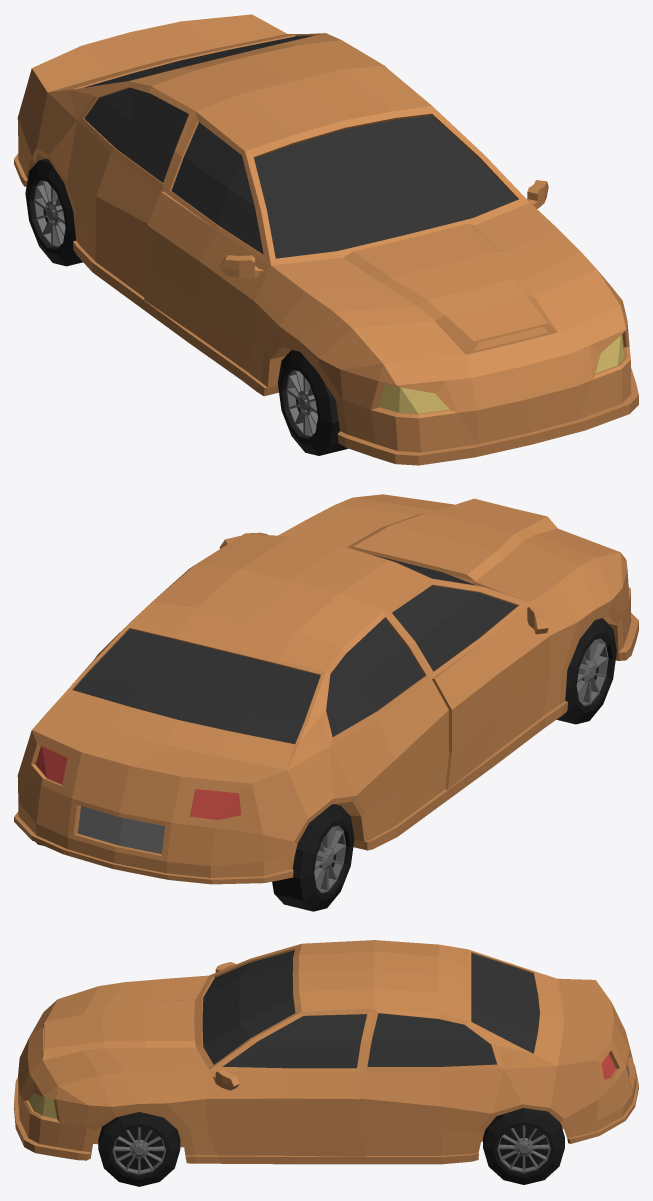
The model's file is SportsCar.glb.
The picture shows the model from 3 angles, top to bottom: view 1: azimuth 30°, elevation 25°; view 2: azimuth 150°, elevation 25°; view 3: azimuth 270°, elevation 25°; orthographic projection. The views are drawn at different scales.
Visible parts, largest first — view 1: SportsCar, SportsCar_FrontRightWheel, SportsCar_BackWheels; view 2: SportsCar, SportsCar_BackWheels, SportsCar_FrontRightWheel; view 3: SportsCar, SportsCar_BackWheels, SportsCar_FrontLeftWheel.
Part boxes in pixels (x1,y1,x2,y2): SportsCar: (14, 14, 638, 465); SportsCar_FrontRightWheel: (278, 349, 348, 455); SportsCar_BackWheels: (25, 158, 82, 266); SportsCar: (14, 494, 638, 884); SportsCar_BackWheels: (36, 804, 354, 911); SportsCar_FrontRightWheel: (556, 618, 616, 724); SportsCar: (14, 940, 638, 1164); SportsCar_BackWheels: (483, 1108, 564, 1184); SportsCar_FrontLeftWheel: (98, 1112, 180, 1186).
Bounding box in the file's own units: 1.8 × 1.16 × 3.97.
